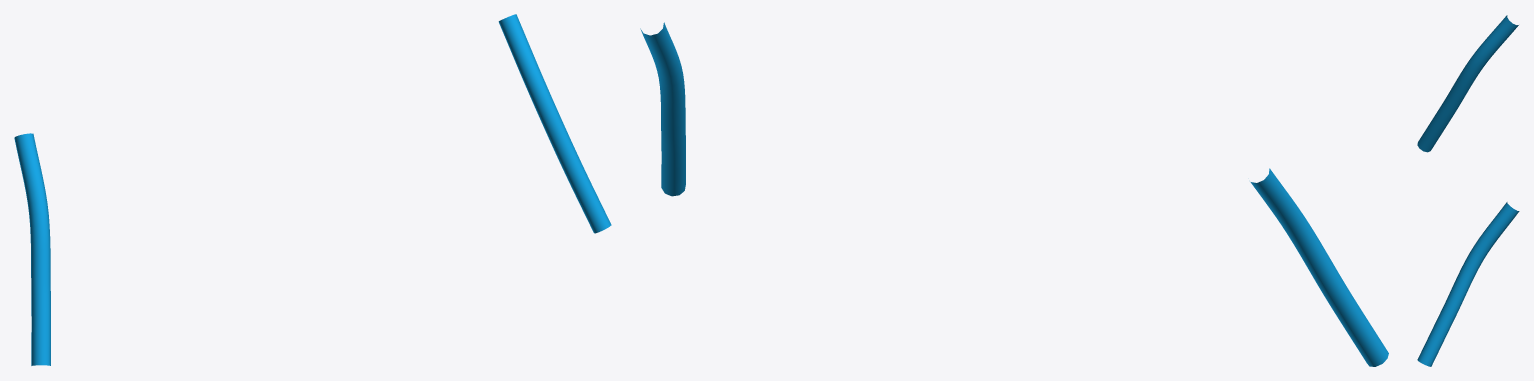
File: a_pillar.glb
The picture shows the model from 3 angles, left to right: view 1: azimuth 30°, elevation 25°; view 2: azimuth 150°, elevation 25°; view 3: azimuth 270°, elevation 25°; orthographic projection. The views are drawn at different scales.
Parts seen in each view (by area): view 1: A_Pillar_Upright_RH, A_Pillar_Upright_LH; view 2: A_Pillar_Upright_LH, A_Pillar_Upright_RH; view 3: A_Pillar_Upright_RH, A_Pillar_Upright_LH.
Boxes of the visible parts, x1,y1,x2,y2 form: A_Pillar_Upright_RH: [498, 14, 611, 233]; A_Pillar_Upright_LH: [14, 133, 50, 365]; A_Pillar_Upright_LH: [1250, 168, 1388, 366]; A_Pillar_Upright_RH: [640, 22, 685, 196]; A_Pillar_Upright_RH: [1417, 202, 1519, 366]; A_Pillar_Upright_LH: [1417, 15, 1518, 152].
Size of the model in its own units: 1.48 by 0.4637 by 0.2869.
